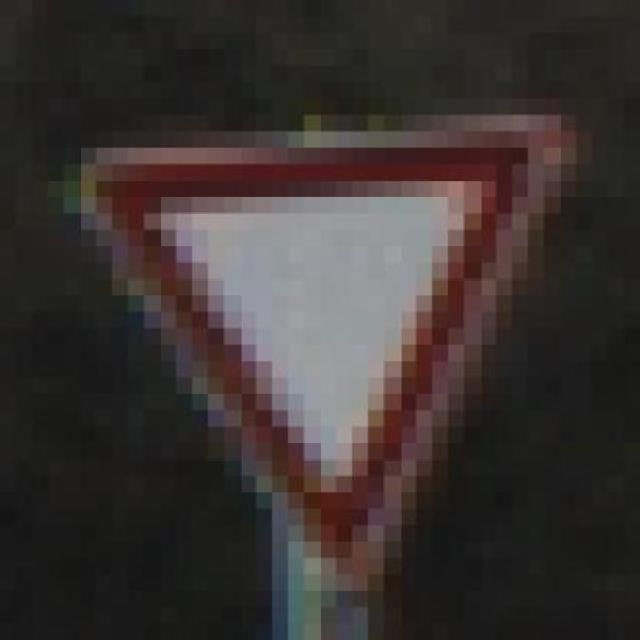Give Way: (31, 98, 624, 624)
